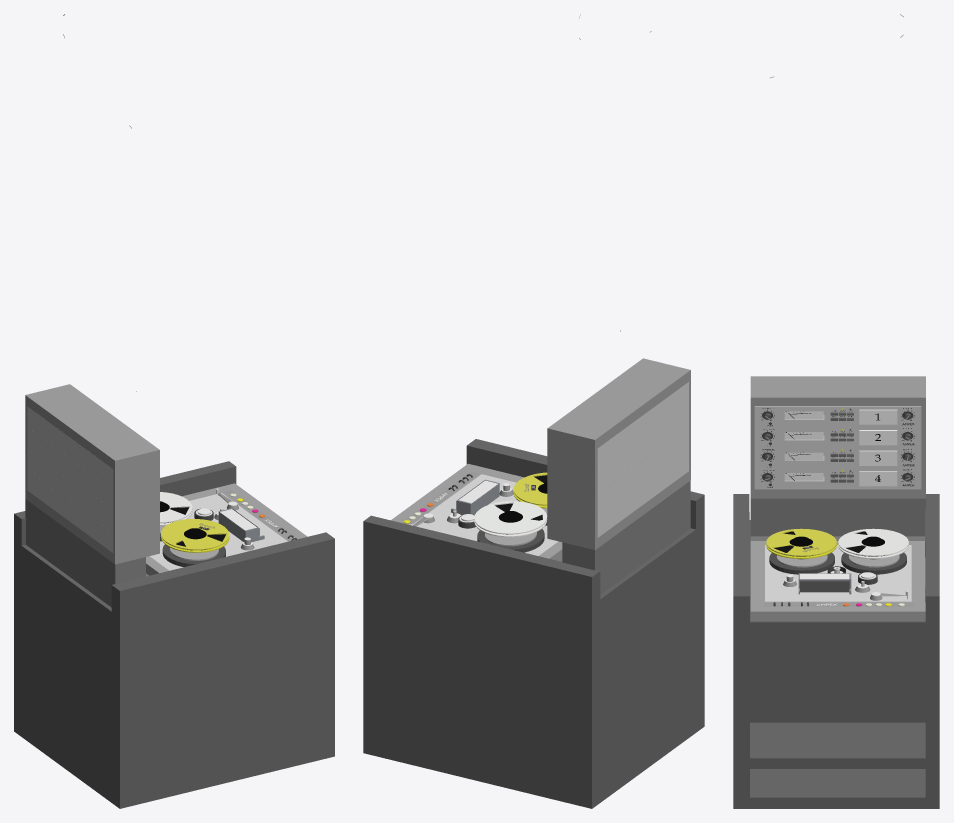
File: objek 4.fbx
3 renders of one model, left to right at view 1: azimuth 30°, elevation 25°; view 2: azimuth 150°, elevation 25°; view 3: azimuth 270°, elevation 25°, orthographic. The views are drawn at different scales.
Parts seen in each view (by area): view 1: Cube.092, Cube.044, Cube.004, Cube.091, Cube.074, Cube.020, Cube.006, Plane, Cylinder.052, Cube.046, Cylinder.020, Cube.001; view 2: Cube.092, Cube.044, Cube.004, Cube.074, Cube.020, Cube.006, Cube.091, Plane, Cylinder.020, Cube.046, Cylinder.052, Cube.001; view 3: Cube.092, Cube.044, Cube.004, Cube.046, Plane, Cube.074, Cube.006, Cube.091, Cube.020, Cylinder.020, Cylinder.052, Cube.002 (+8 smaller).
Boxes of the visible parts, box(x1,y1,x2,y2) form: Cube.092: box(14, 461, 334, 808); Cube.044: box(25, 384, 159, 564); Cube.004: box(25, 499, 145, 607); Cube.091: box(27, 427, 113, 510); Cube.074: box(27, 406, 113, 489); Cube.020: box(27, 448, 113, 531); Cube.006: box(27, 470, 113, 552); Plane: box(150, 493, 287, 570); Cylinder.052: box(161, 519, 229, 550); Cube.046: box(146, 483, 307, 575); Cylinder.020: box(160, 492, 192, 523); Cube.001: box(218, 508, 264, 542); Cube.092: box(363, 439, 704, 808); Cube.044: box(547, 358, 690, 549); Cube.004: box(562, 480, 690, 594); Cube.074: box(597, 382, 688, 470); Cube.020: box(597, 427, 688, 515); Cube.006: box(597, 449, 688, 537); Cube.091: box(597, 404, 688, 492); Plane: box(412, 474, 557, 555); Cylinder.020: box(474, 501, 547, 534); Cube.046: box(391, 463, 562, 561); Cylinder.052: box(513, 472, 547, 505); Cube.001: box(451, 479, 499, 515); Cube.092: box(733, 494, 939, 808); Cube.044: box(750, 376, 925, 498); Cube.004: box(750, 498, 925, 536); Cube.046: box(750, 541, 925, 621); Plane: box(765, 545, 911, 601); Cube.074: box(754, 406, 921, 427); Cube.006: box(754, 468, 921, 488); Cube.091: box(754, 427, 921, 447); Cube.020: box(754, 448, 921, 468); Cylinder.020: box(838, 528, 908, 556); Cylinder.052: box(766, 528, 836, 556); Cube.002: box(800, 580, 849, 592).
Bounding box in the file's own units: 294 × 948 × 251.
